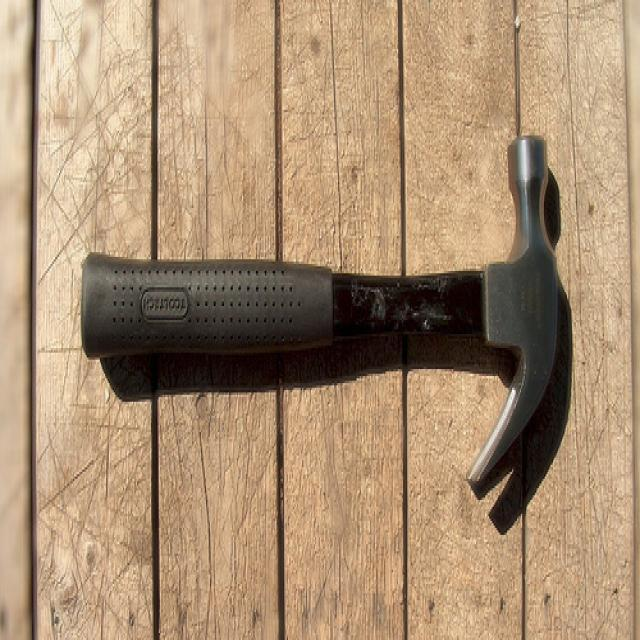hammer: (72, 120, 574, 519)
